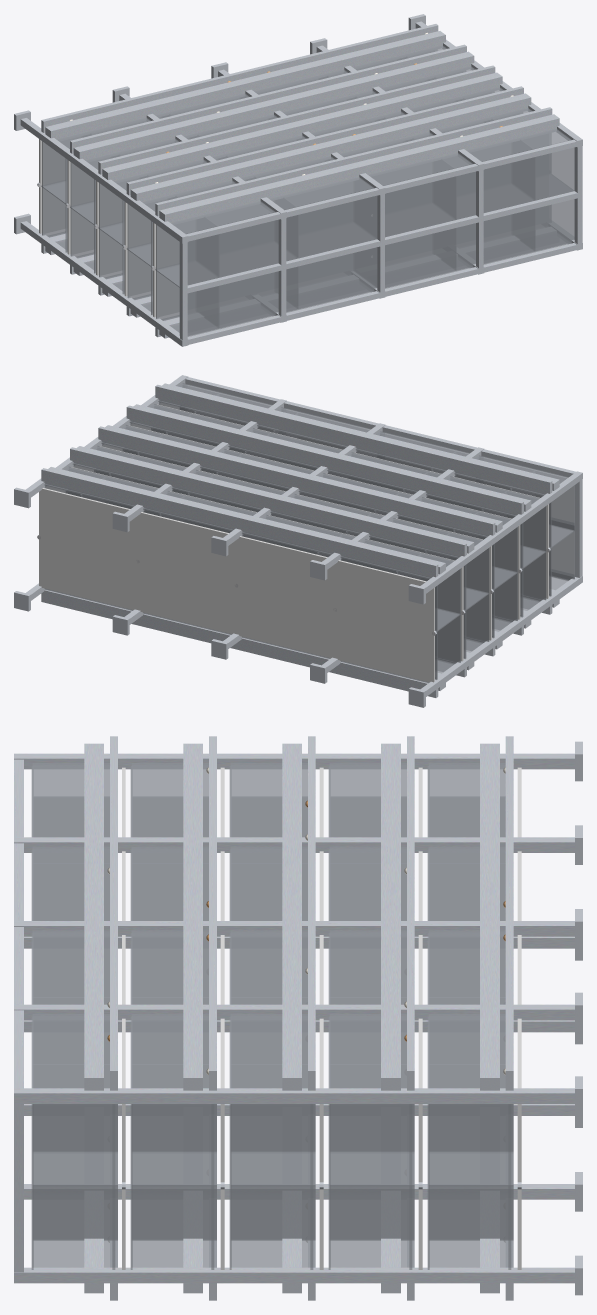
The model's file is cage_rack_5tier.obj.
3 renders of one model, top to bottom at view 1: azimuth 30°, elevation 25°; view 2: azimuth 150°, elevation 25°; view 3: azimuth 270°, elevation 25°, orthographic. The views are drawn at different scales.
Size of the model in its own units: 4.15 by 1.28 by 2.88.
Materials: 7 (2 with a texture image).
